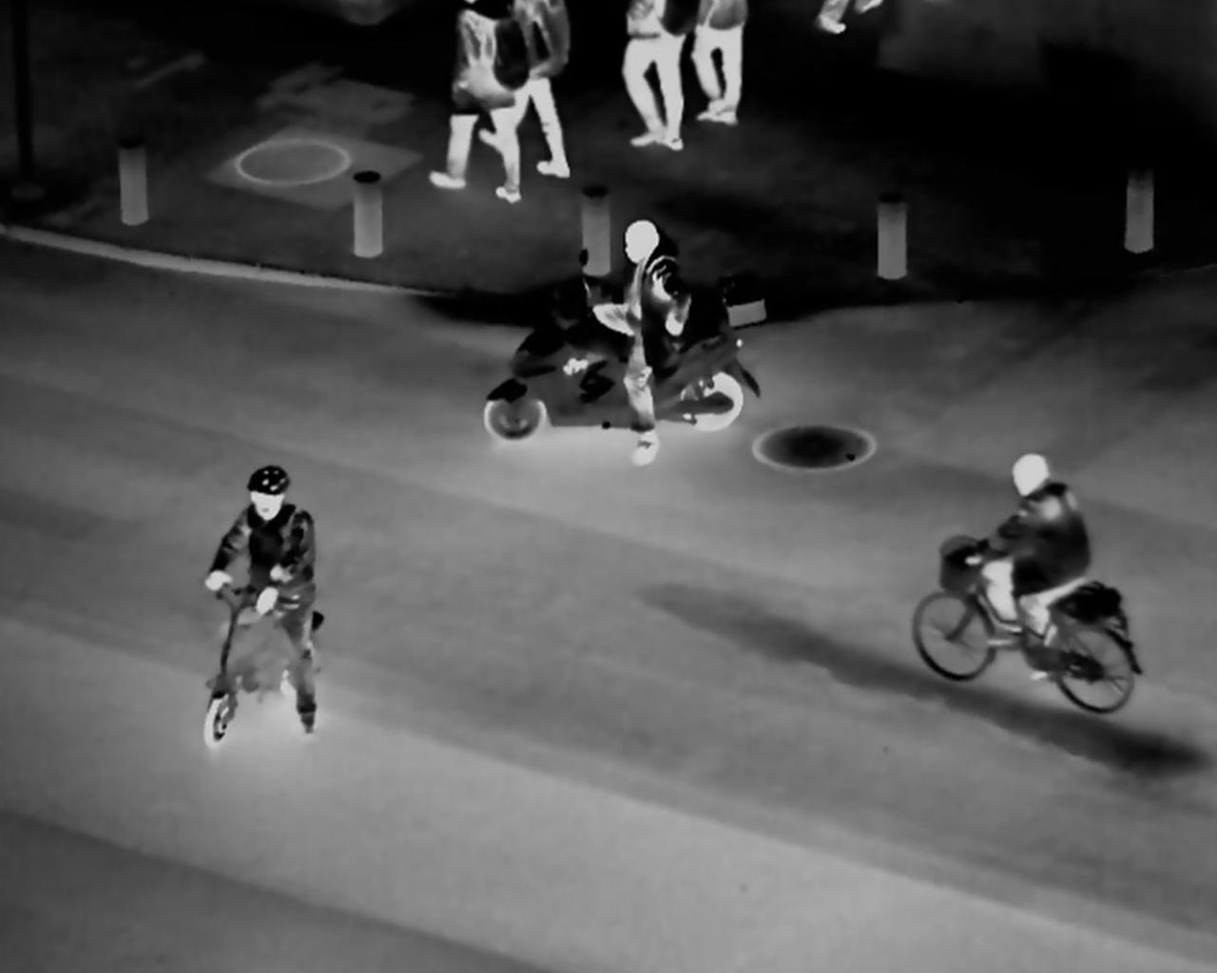person: (206, 457, 333, 735), (965, 446, 1100, 683), (590, 216, 694, 467), (438, 6, 523, 204), (505, 2, 582, 184), (619, 4, 695, 157), (690, 4, 753, 133)
